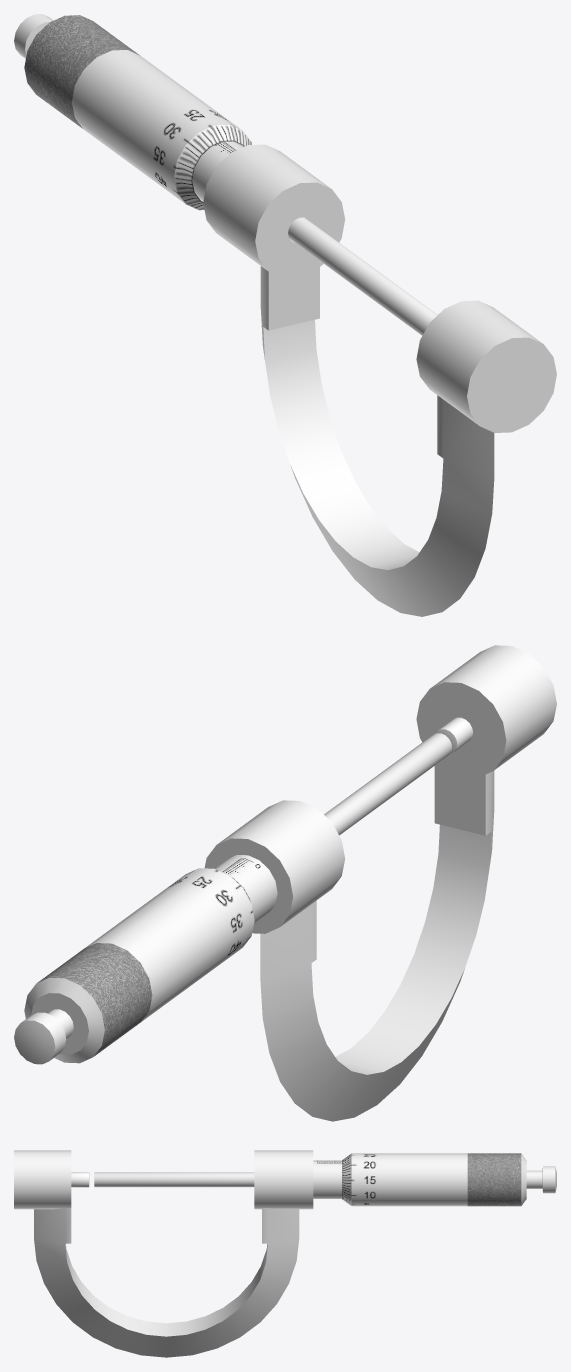
File: Screw Gauge.fbx
3 renders of one model, top to bottom at view 1: azimuth 30°, elevation 25°; view 2: azimuth 150°, elevation 25°; view 3: azimuth 270°, elevation 25°, orthographic. The views are drawn at different scales.
Parts seen in each view (by area): view 1: Circular thing, Base; view 2: Circular thing, Base; view 3: Circular thing, Base.
Boxes of the visible parts, x1,y1,x2,y2 form: Circular thing: (192, 141, 556, 616); Base: (14, 14, 437, 335); Circular thing: (204, 645, 556, 1121); Base: (14, 733, 452, 1064); Circular thing: (14, 1150, 342, 1357); Base: (94, 1153, 556, 1206).
Bounding box in the file's own units: 22.41 × 85.77 × 206.
